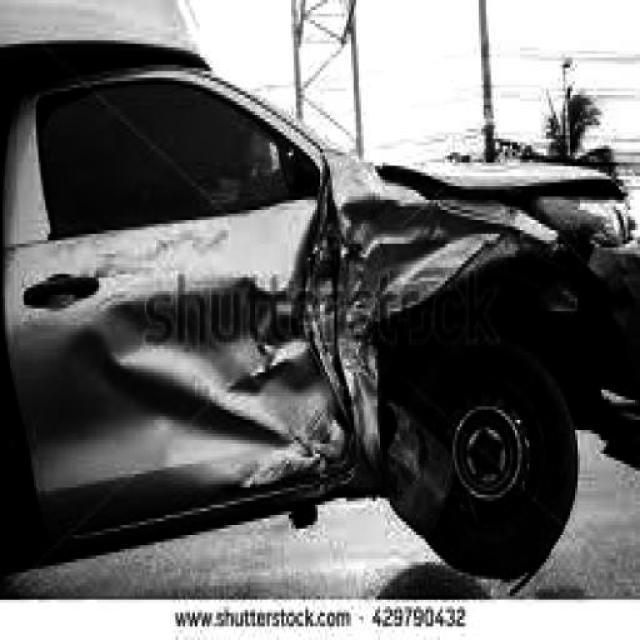car damage: (63, 143, 640, 521)
